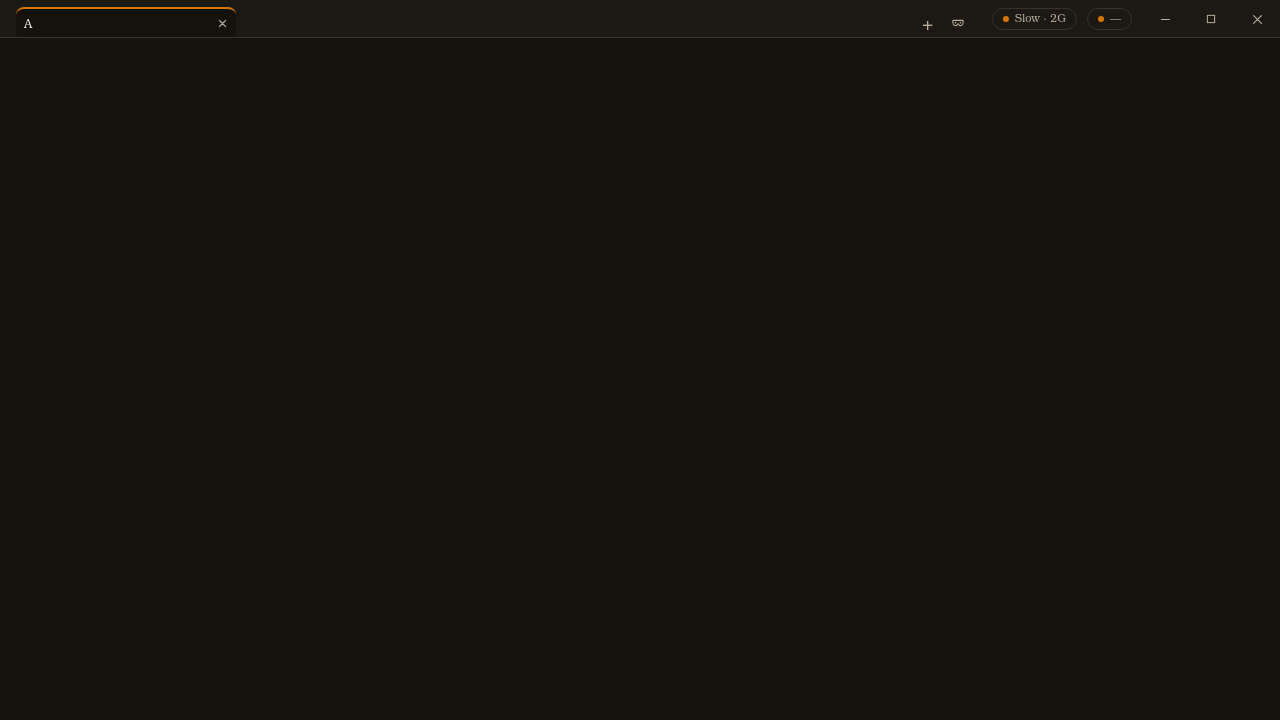
TabStrip duplicate gating › opens countdown when duplicating a heavy URL on slow
This screenshot has width=1280, height=720.
Right-click the button "A" at (115, 23), box [16,9,214,37]
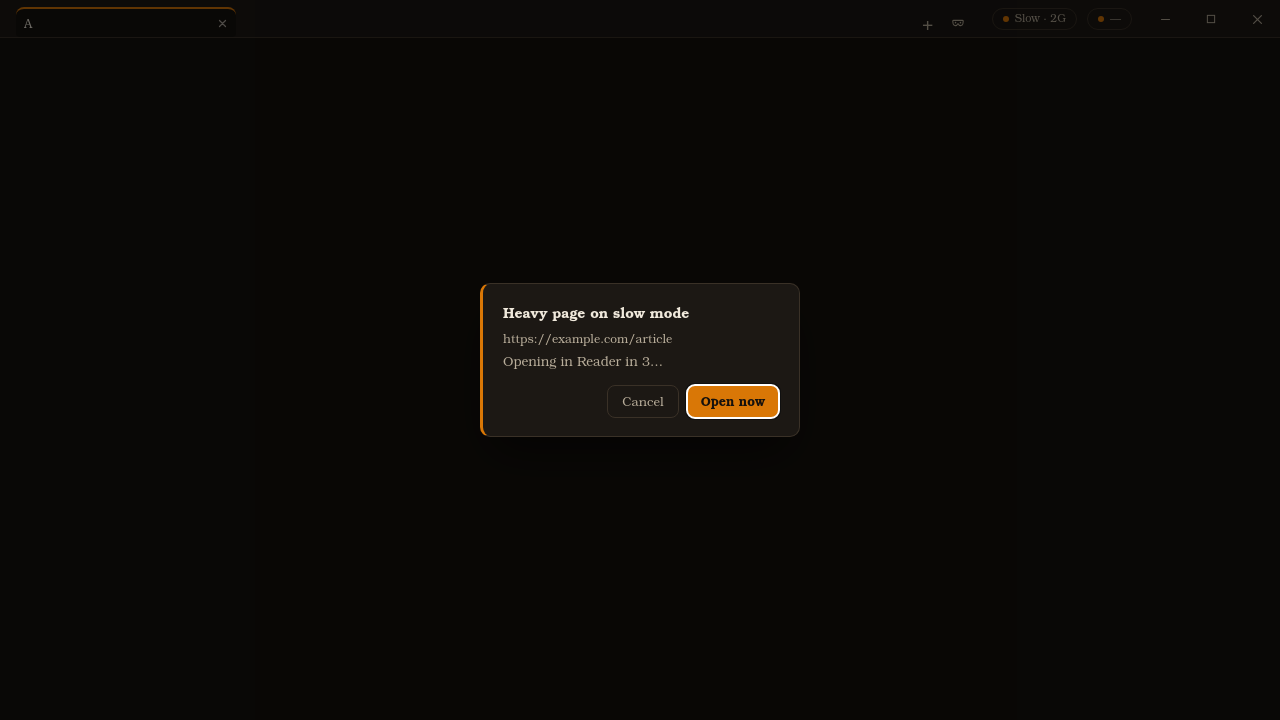
Expected: the dialog "Heavy page" is shown
